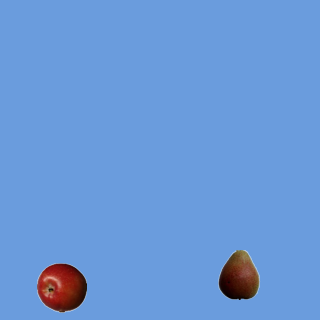Apple Braeburn: (36, 262, 86, 312)
Pear Forelle: (213, 249, 263, 299)
